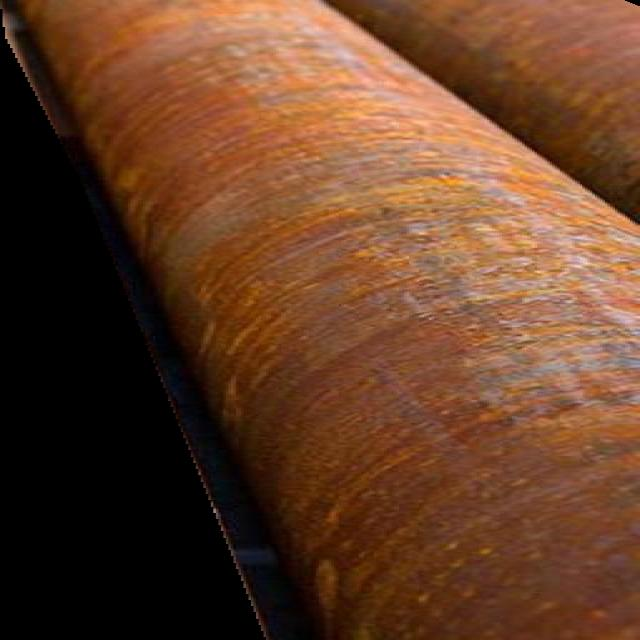Uniform Corrosion: (0, 0, 640, 640)
